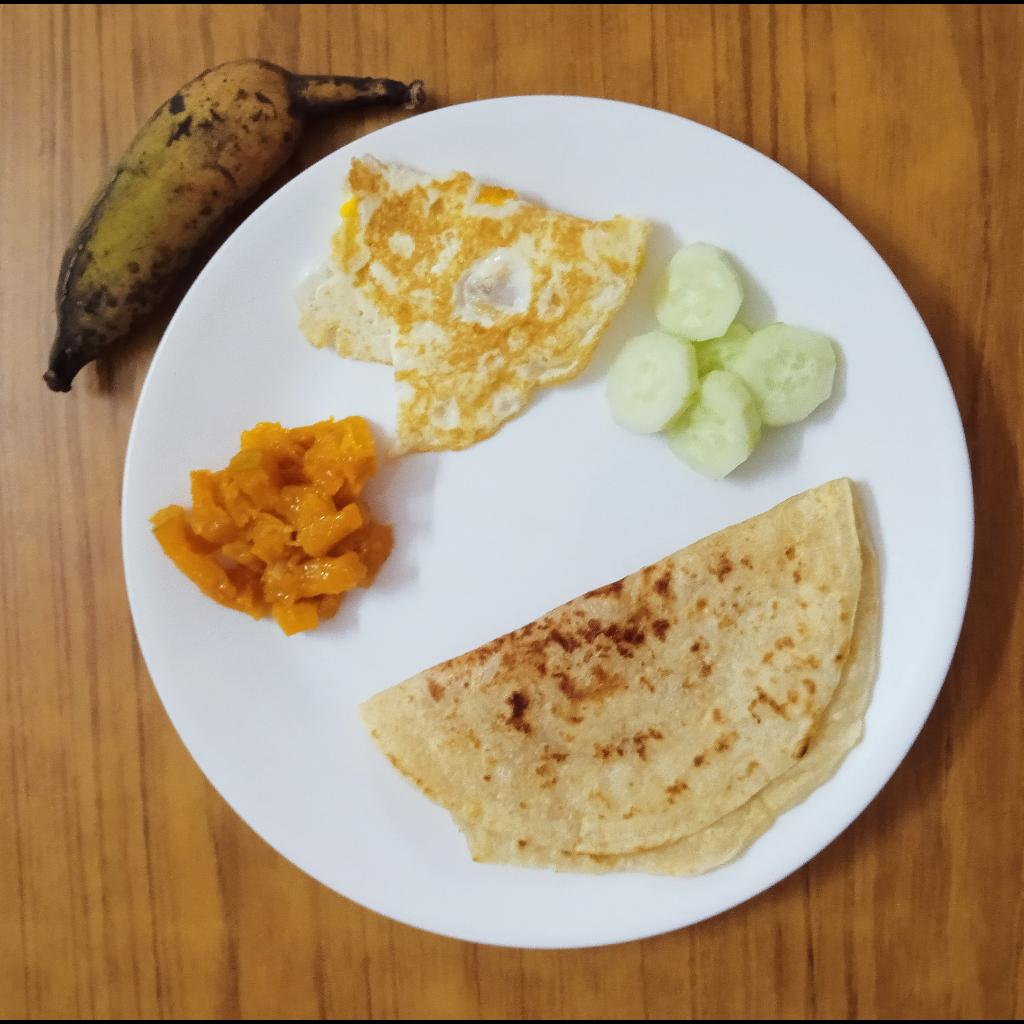banana: (40, 56, 426, 392)
cucumber: (602, 241, 838, 477)
egg-poached: (297, 154, 667, 455)
kumra-vaji: (148, 417, 395, 633)
ruti: (361, 476, 887, 877)
